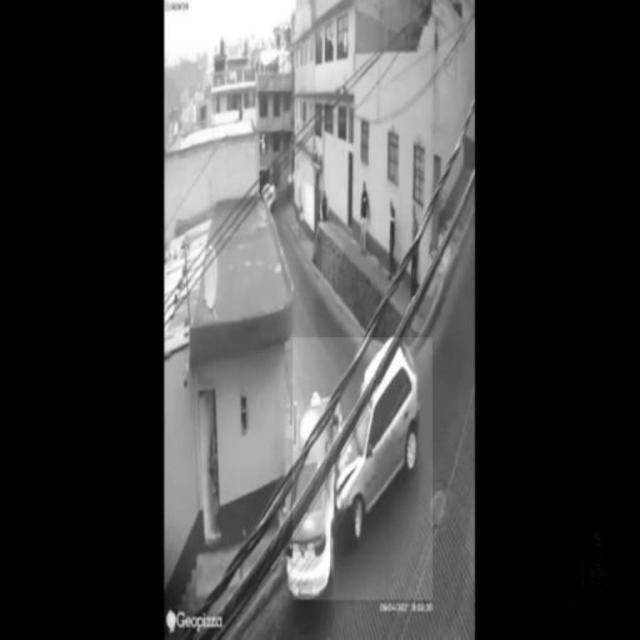accident: (294, 337, 434, 599)
